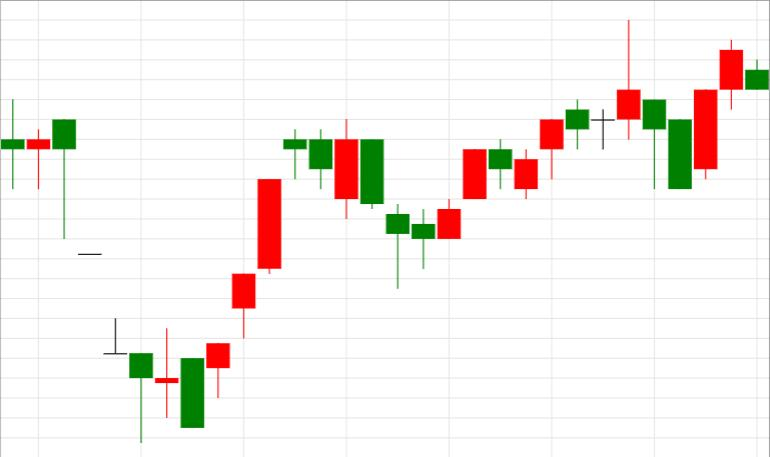shooting_star_fall: (437, 20, 641, 239)
